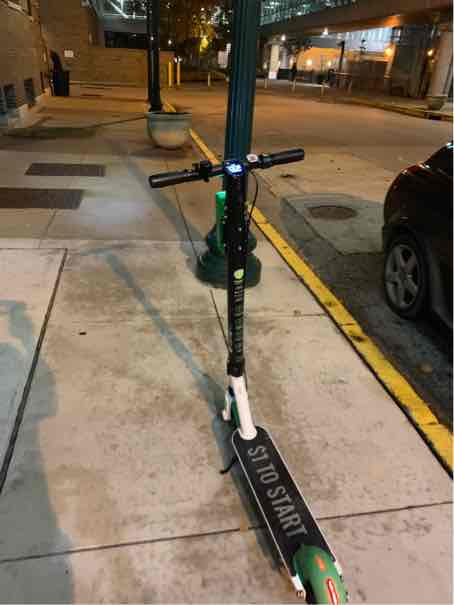scooter: (146, 140, 379, 604)
